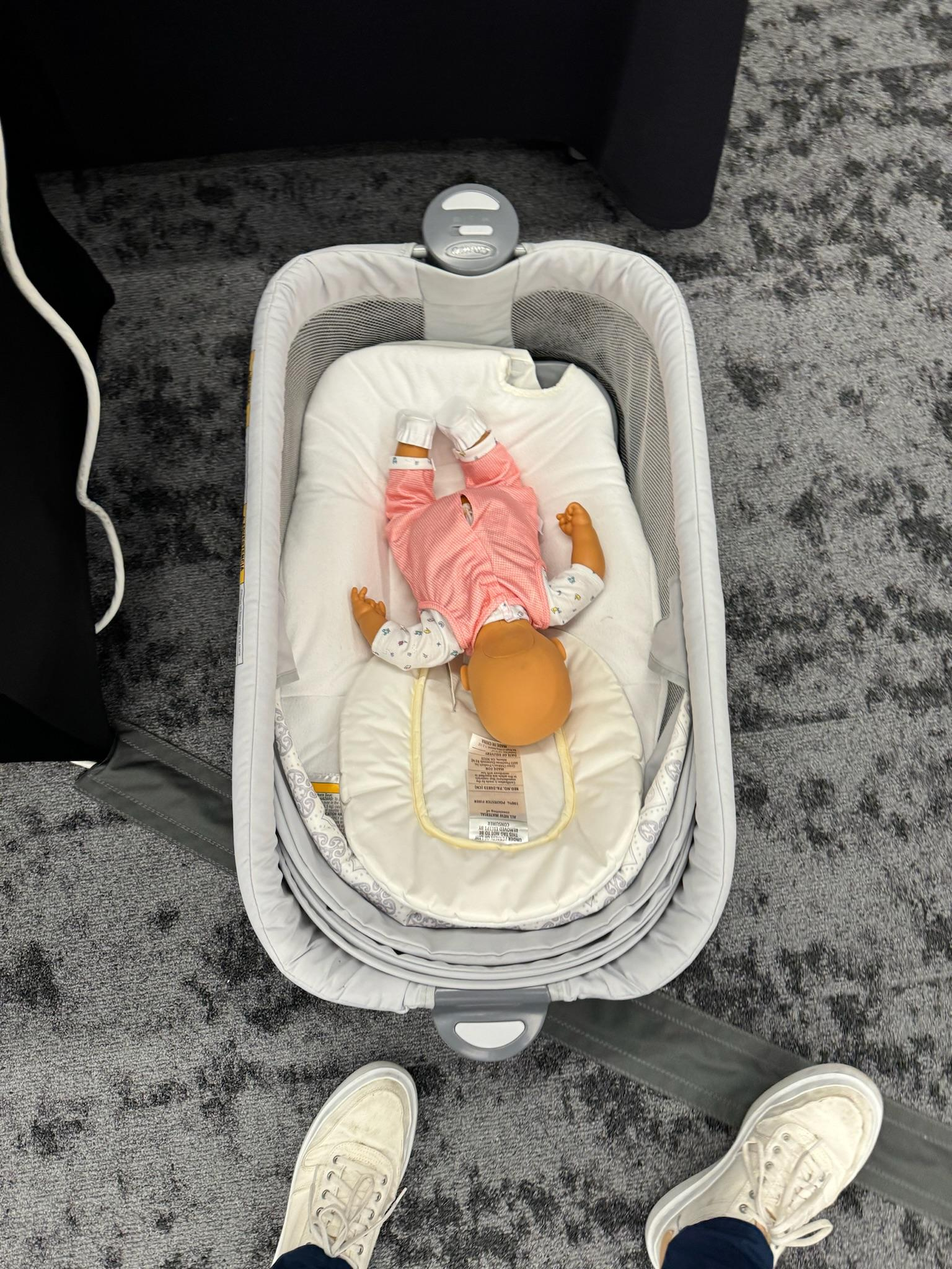baby: (348, 398, 612, 750)
